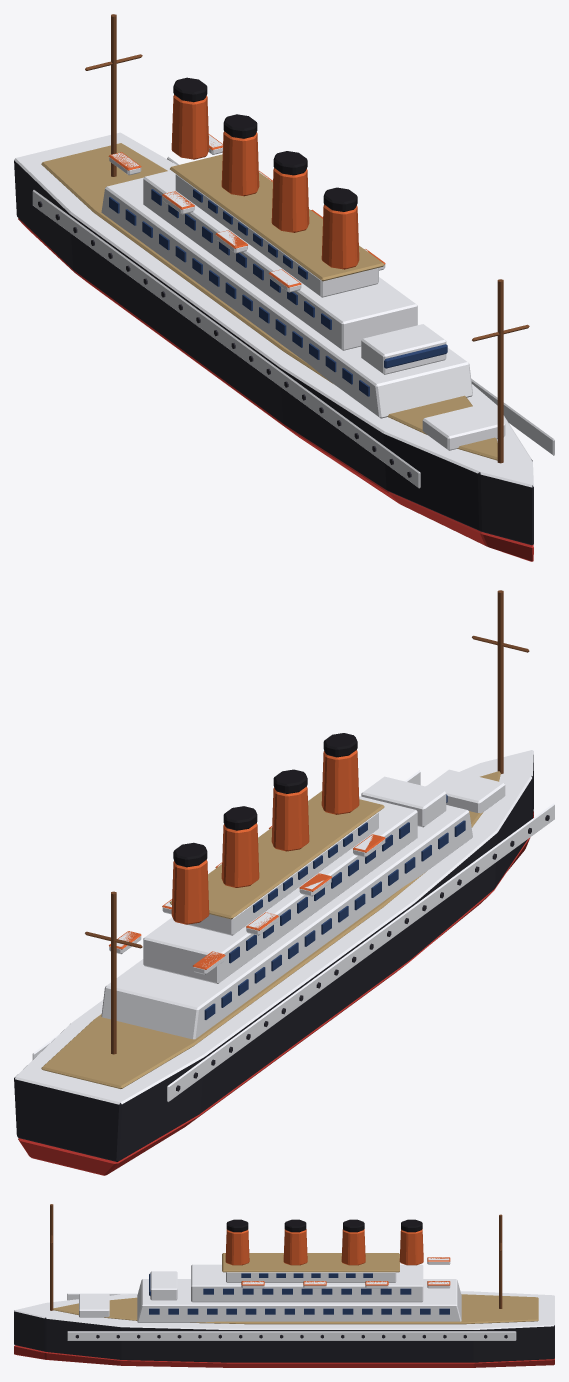
The model's file is liner.glb.
The picture shows the model from 3 angles, top to bottom: view 1: azimuth 30°, elevation 25°; view 2: azimuth 150°, elevation 25°; view 3: azimuth 270°, elevation 25°; orthographic projection. The views are drawn at different scales.
Parts seen in each view (by area): view 1: Liner; view 2: Liner; view 3: Liner.
Part boxes in pixels (<box>): Liner: <box>14,14,554,561</box>; Liner: <box>14,590,554,1175</box>; Liner: <box>14,1204,554,1367</box>.
Size of the model in its own units: 1.21 by 2.14 by 6.99.
1 material, 1 textured.
